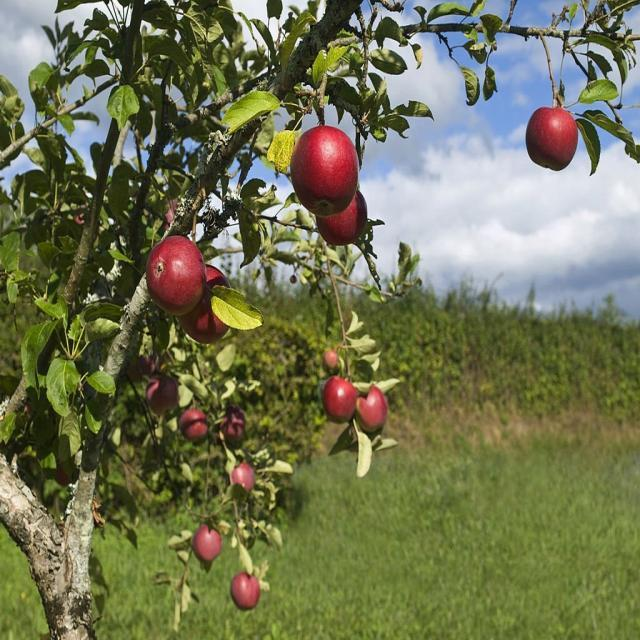Red Apple: (295, 129, 356, 213), (152, 241, 214, 305), (189, 268, 232, 338), (526, 109, 572, 165), (329, 194, 369, 243), (326, 377, 359, 414), (359, 386, 382, 428), (234, 573, 259, 607), (198, 529, 220, 565), (154, 380, 176, 408), (159, 203, 180, 231), (226, 411, 246, 440), (187, 411, 205, 439), (238, 465, 253, 489), (327, 354, 337, 367)
